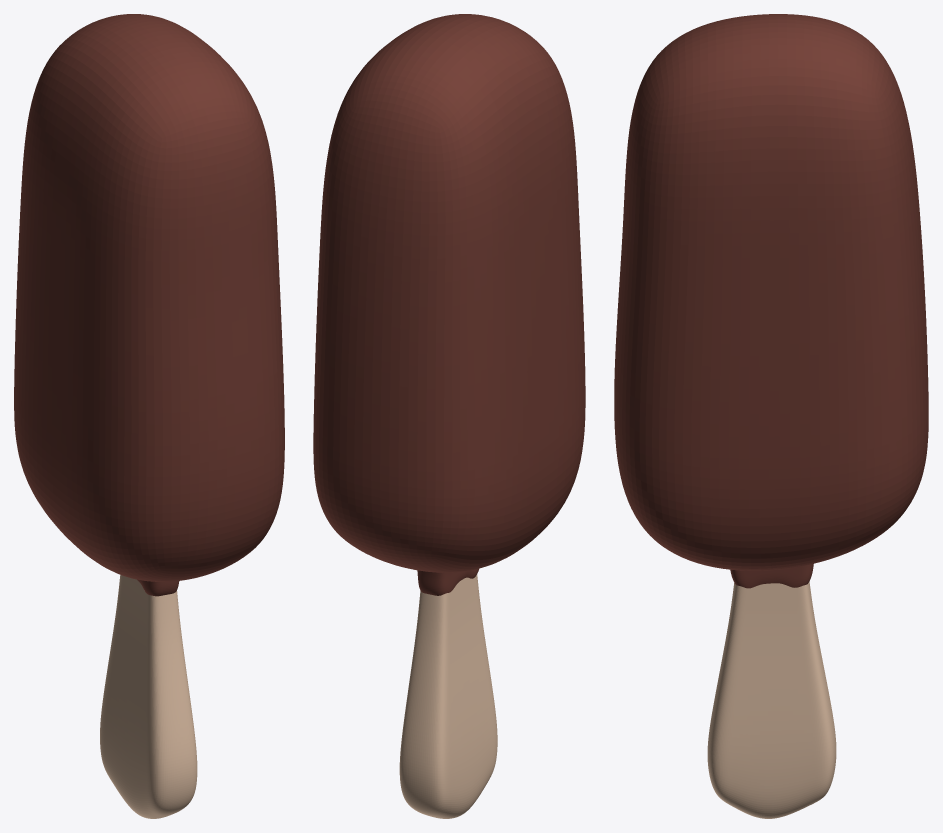
Rendered from ice cream.fbx.
3 views of the same model, side by side, from view 1: azimuth 30°, elevation 25°; view 2: azimuth 150°, elevation 25°; view 3: azimuth 270°, elevation 25° (orthographic).
Visible parts, largest first — view 1: 立方體, 立方體.001; view 2: 立方體, 立方體.001; view 3: 立方體, 立方體.001.
Boxes of the visible parts, x1,y1,x2,y2 form: 立方體: [14, 14, 284, 581]; 立方體.001: [100, 575, 197, 818]; 立方體: [313, 14, 585, 572]; 立方體.001: [399, 568, 497, 818]; 立方體: [614, 14, 928, 570]; 立方體.001: [707, 563, 836, 818].
Size of the model in its own units: 103 by 410 by 147.
